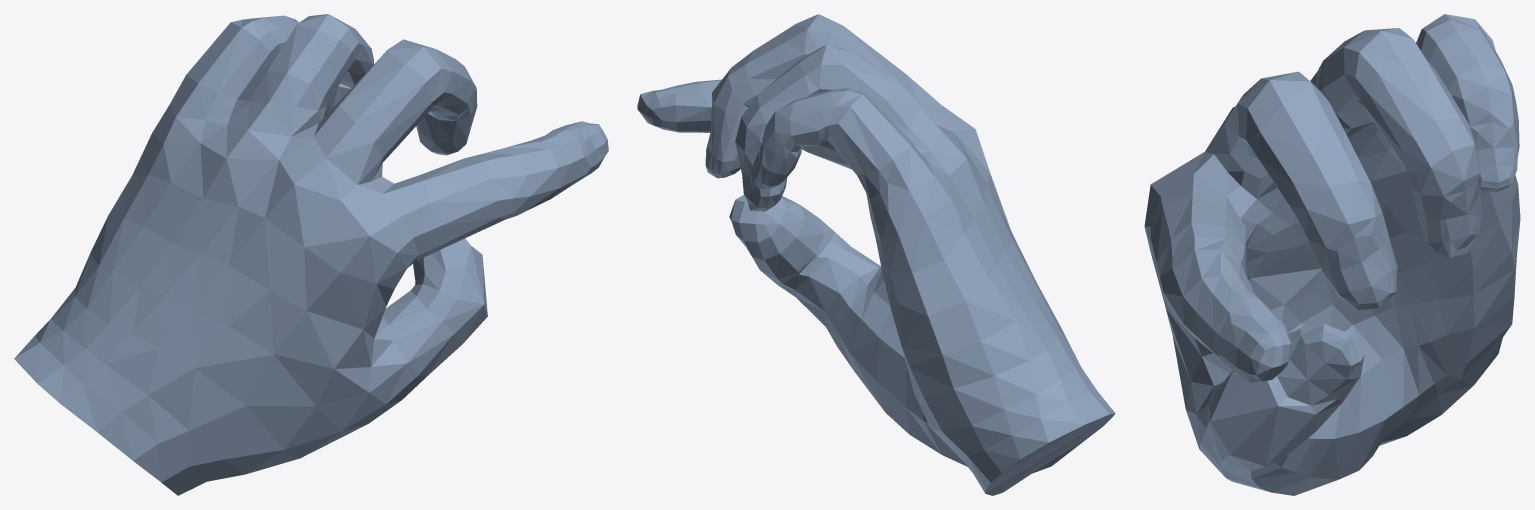
The picture shows the model from 3 angles, left to right: view 1: azimuth 30°, elevation 25°; view 2: azimuth 150°, elevation 25°; view 3: azimuth 270°, elevation 25°; orthographic projection. The views are drawn at different scales.
Bounding box in the file's own units: 0.1689 × 0.1286 × 0.0826.
